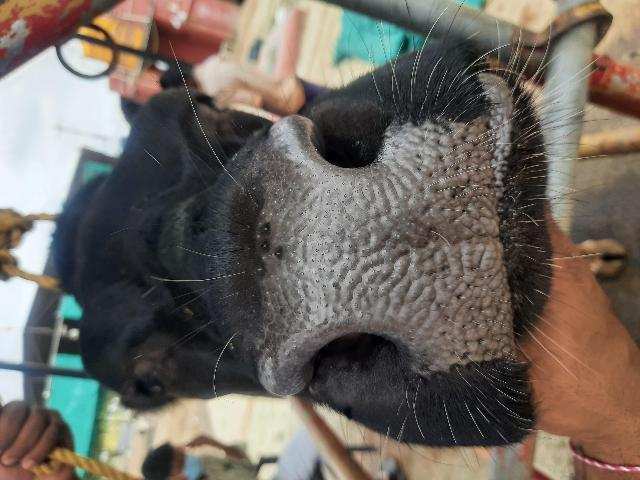Muzzle: (280, 170, 502, 330)
